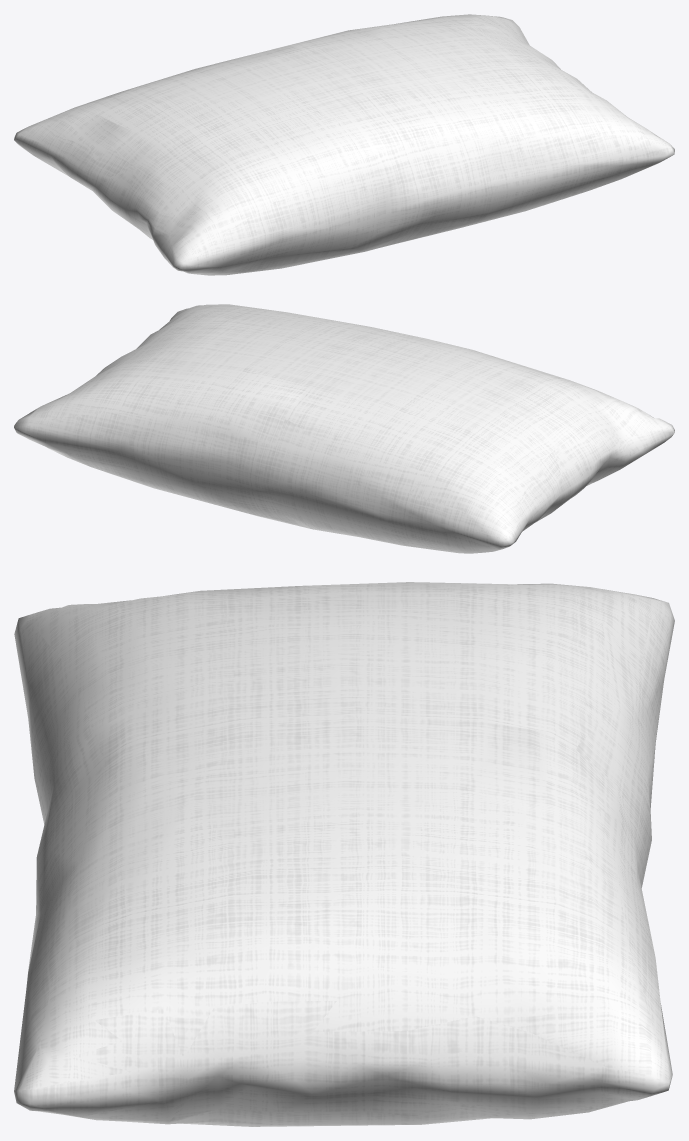
The model's file is Pillow.fbx.
3 views of the same model, one above another, from view 1: azimuth 30°, elevation 25°; view 2: azimuth 150°, elevation 25°; view 3: azimuth 270°, elevation 25° (orthographic). The views are drawn at different scales.
Visible parts, largest first — view 1: Pillow_LOD_0; view 2: Pillow_LOD_0; view 3: Pillow_LOD_0.
Boxes of the visible parts, left/top/right/bottom form: Pillow_LOD_0: left=14, top=14, right=674, bottom=275; Pillow_LOD_0: left=14, top=304, right=674, bottom=553; Pillow_LOD_0: left=14, top=582, right=674, bottom=1126.
Size of what is drawn, in the model's own units: 58.55 by 15.75 by 34.44.
